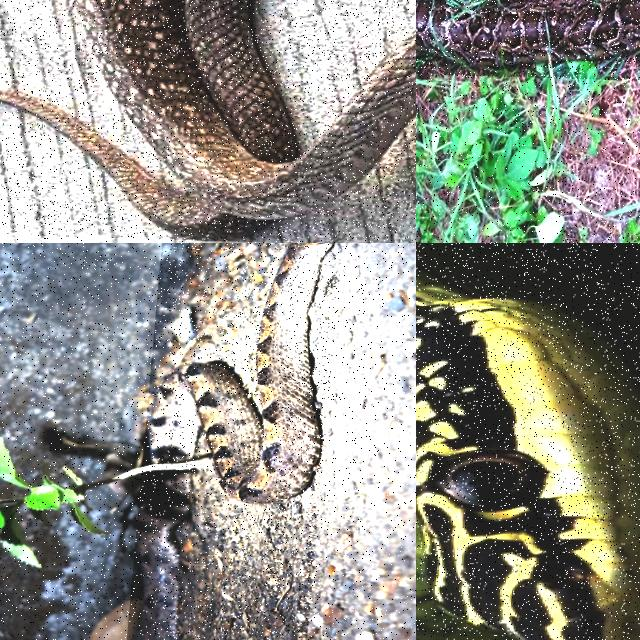Calloselasma rhodostoma: (149, 243, 332, 502)
Chrysopelea ornata: (416, 268, 639, 639)
Naja kaouthia: (0, 0, 415, 239)
Python bivittatus: (416, 0, 639, 65)
